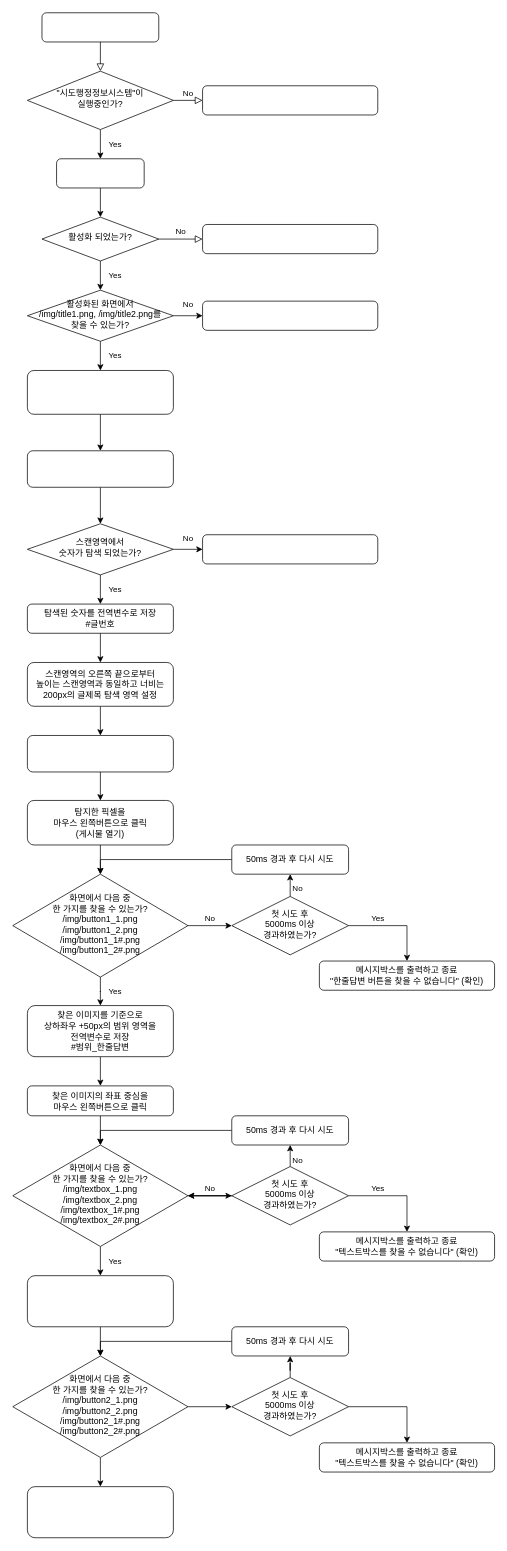
The diagram is 507 pixels wide and 1551 high, and some of its shapes have lost their labels. Each missing label, with the box of its shape:
"시도행정정보시스템" 탭 활성화: (56, 158, 144, 188)
/img/title2.png 아래 영역 (x-1, y+23, 너비 30, 높이 14) 설정 ※ 영역 좌표를 전역변수로 저장: (27, 370, 173, 414)
글제목 탐색 영역에서 배경색과 다른 픽셀 탐지: (27, 735, 173, 772)
메시지박스를 출력하고 종료 "결재예약 화면을 찾을 수 없습니다" (확인): (202, 300, 378, 330)
메시지박스를 출력하고 종료 "글번호를 인식할 수 없습니다" (확인): (202, 534, 378, 564)
메시지박스를 출력하고 종료 "시도행정 탭을 찾을 수 없습니다" (확인): (202, 85, 378, 115)
메시지박스를 출력하고 종료 "시도행정 탭을 활성화할 수 없습니다" (확인): (202, 224, 378, 254)
스캔영역에서 숫자 인식 ※ 사전에 제시된 0~9.png와 대조: (27, 450, 173, 487)
실행중인 엣지 브라우저의 탭 목록 확인: (41, 12, 159, 42)
찾은 이미지를 기준으로 상하좌우 +50px의 범위 영역을 전역변수로 저장 #범위_텍스트박스: (27, 1275, 173, 1327)
찾은 이미지를 기준으로 상하좌우 +50px의 범위 영역을 전역변수로 저장 #범위_확인: (27, 1486, 173, 1538)
